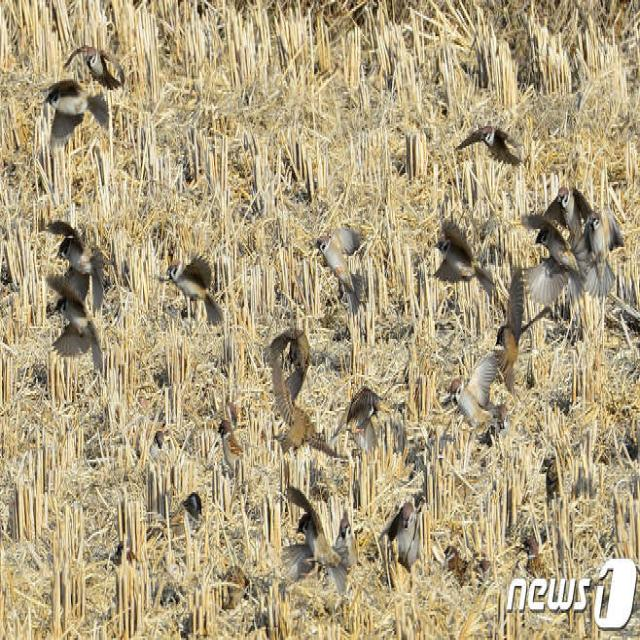bird: (270, 355, 332, 458), (278, 477, 336, 574), (52, 216, 112, 308), (438, 352, 496, 443), (46, 278, 103, 370), (157, 254, 225, 326), (39, 82, 112, 143), (525, 215, 576, 302), (431, 222, 491, 288), (582, 204, 622, 298), (458, 122, 532, 172), (494, 263, 520, 388), (266, 327, 310, 398), (334, 385, 394, 437), (64, 42, 125, 90), (383, 508, 427, 570), (544, 183, 594, 232), (334, 517, 357, 573)
